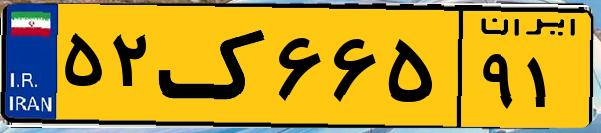1: (525, 38, 570, 115)
2: (110, 28, 158, 98)
5: (385, 28, 445, 110), (57, 26, 110, 100)
6: (270, 28, 330, 110), (330, 28, 385, 110)
9: (475, 38, 525, 113)
ک: (158, 12, 270, 120)
